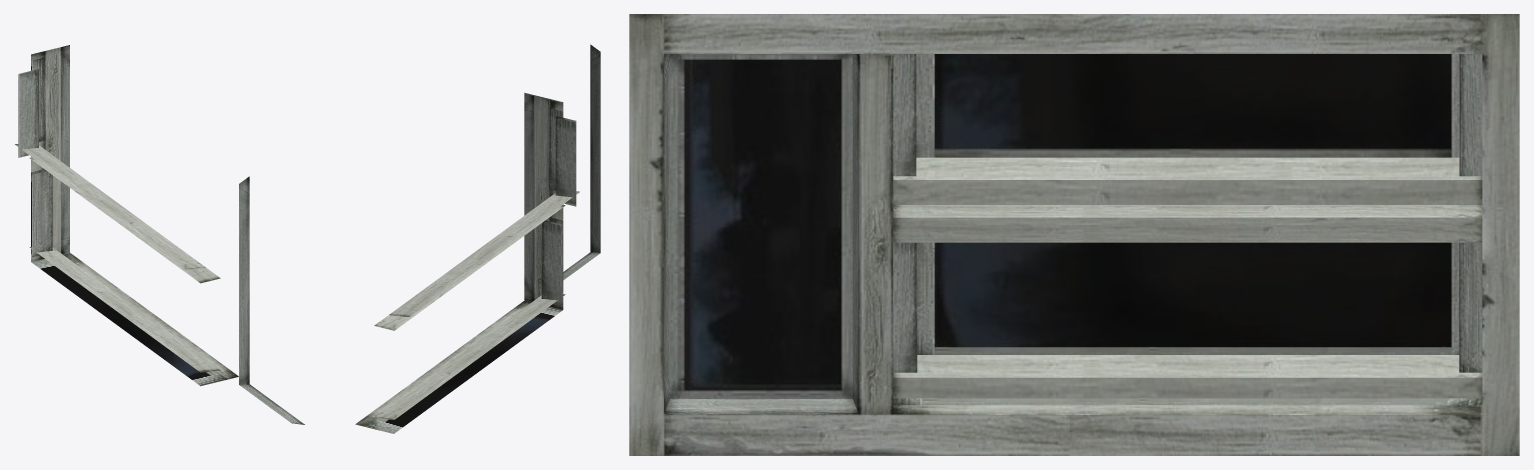
Rendered from window_white_a.glb.
The picture shows the model from 3 angles, left to right: view 1: azimuth 30°, elevation 25°; view 2: azimuth 150°, elevation 25°; view 3: azimuth 270°, elevation 25°; orthographic projection. The views are drawn at different scales.
Bounding box in the file's own units: 11.05 × 46 × 84.
Materials: 1 (1 with a texture image).
